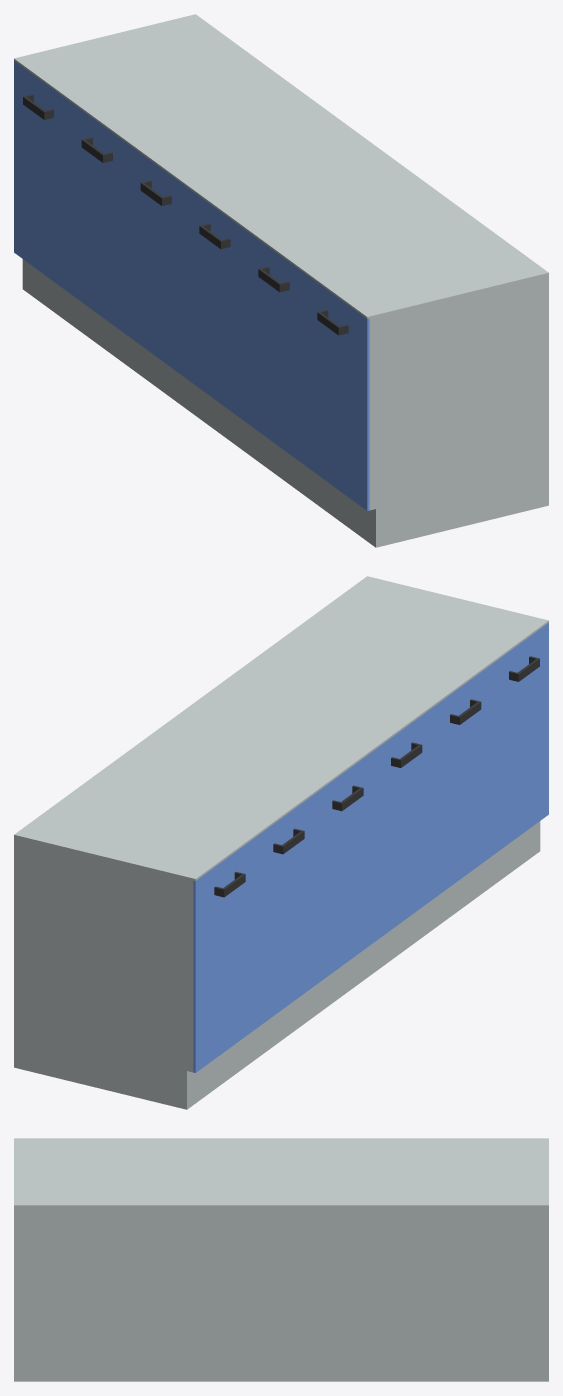
File: Shelf_3.obj
3 views of the same model, one above another, from view 1: azimuth 30°, elevation 25°; view 2: azimuth 150°, elevation 25°; view 3: azimuth 270°, elevation 25° (orthographic). The views are drawn at different scales.
Parts seen in each view (by area): view 1: pCube1, FIJO_135_1, FLSK_010_2, FIJO_135_R_1, FIJO_135_R_2, FIJO_135_L_1, FIJO_135_L_2, FIJO_135_L_3, FIJO_135_R_3; view 2: pCube1, FIJO_135_3, FLSK_010_2, FIJO_135_L_3, FIJO_135_R_3, FIJO_135_L_2, FIJO_135_R_2, FIJO_135_R_1, FIJO_135_L_1; view 3: pCube1, FIJO_135_2, FIJO_135_1, FIJO_135_3, FLSK_010_2.
Boxes of the visible parts, x1,y1,x2,y2 form: pCube1: [14, 14, 548, 318]; FIJO_135_1: [369, 274, 548, 510]; FLSK_010_2: [22, 259, 548, 547]; FIJO_135_R_1: [308, 276, 369, 510]; FIJO_135_R_2: [190, 190, 249, 424]; FIJO_135_L_1: [249, 233, 308, 467]; FIJO_135_L_2: [131, 147, 190, 381]; FIJO_135_L_3: [14, 60, 72, 295]; FIJO_135_R_3: [73, 104, 131, 338]; pCube1: [14, 576, 548, 880]; FIJO_135_3: [14, 836, 193, 1072]; FLSK_010_2: [14, 821, 540, 1109]; FIJO_135_L_3: [193, 838, 254, 1072]; FIJO_135_R_3: [254, 795, 313, 1029]; FIJO_135_L_2: [313, 752, 372, 986]; FIJO_135_R_2: [372, 709, 431, 943]; FIJO_135_R_1: [490, 622, 548, 857]; FIJO_135_L_1: [431, 666, 489, 900]; pCube1: [14, 1138, 548, 1206]; FIJO_135_2: [192, 1207, 370, 1352]; FIJO_135_1: [14, 1207, 192, 1352]; FIJO_135_3: [370, 1207, 548, 1352]; FLSK_010_2: [14, 1352, 548, 1381].
Size of the model in its own units: 7.75 by 9 by 24.75.
